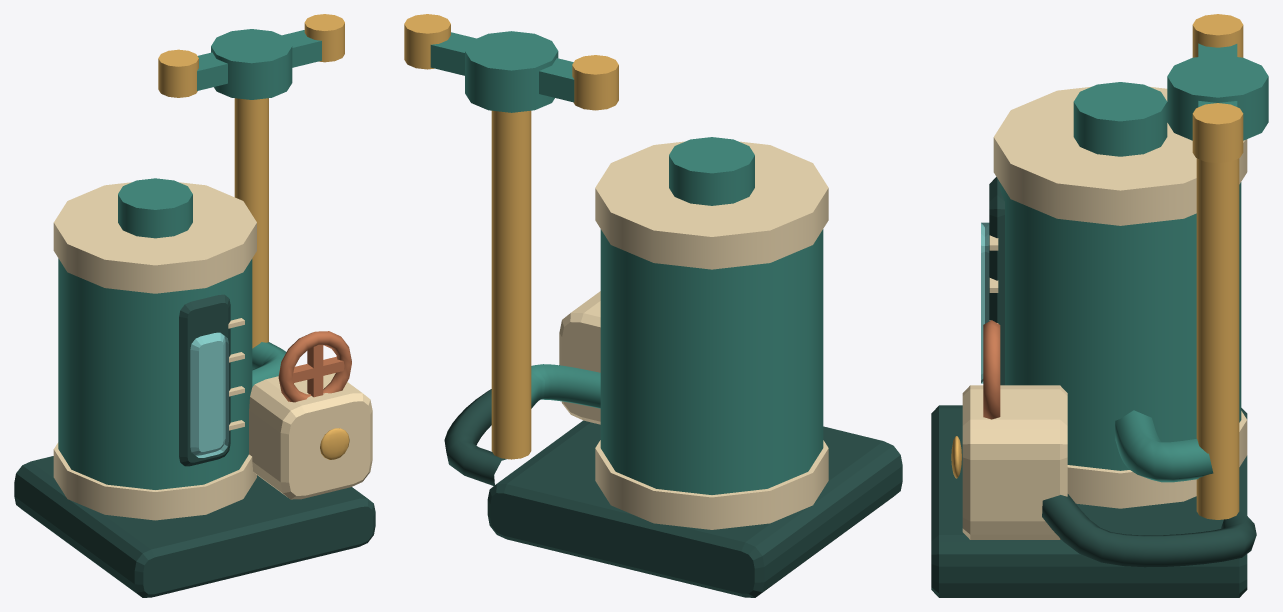
Rendered from irrigation-station.glb.
3 views of the same model, side by side, from view 1: azimuth 30°, elevation 25°; view 2: azimuth 150°, elevation 25°; view 3: azimuth 270°, elevation 25° (orthographic). The views are drawn at different scales.
Visible parts, largest first — view 1: irrigation_station_teal, irrigation_station_cream, irrigation_station_dark, irrigation_station_gold, sprinkler_head_teal, irrigation_station_water, valve_clay, sprinkler_head_gold; view 2: irrigation_station_teal, irrigation_station_dark, irrigation_station_cream, irrigation_station_gold, sprinkler_head_teal, sprinkler_head_gold; view 3: irrigation_station_teal, irrigation_station_cream, irrigation_station_dark, irrigation_station_gold, sprinkler_head_teal, sprinkler_head_gold, valve_clay, irrigation_station_water.
Boxes of the visible parts, <box> form: irrigation_station_teal: <box>58,178,286,489</box>; irrigation_station_cream: <box>53,182,372,520</box>; irrigation_station_dark: <box>14,294,375,597</box>; irrigation_station_gold: <box>234,98,349,459</box>; sprinkler_head_teal: <box>197,29,321,99</box>; irrigation_station_water: <box>190,332,228,457</box>; valve_clay: <box>278,331,351,402</box>; sprinkler_head_gold: <box>158,14,344,97</box>; irrigation_station_teal: <box>531,137,823,494</box>; irrigation_station_dark: <box>444,365,902,597</box>; irrigation_station_cream: <box>559,141,828,529</box>; irrigation_station_gold: <box>491,110,531,459</box>; sprinkler_head_teal: <box>430,31,574,112</box>; sprinkler_head_gold: <box>404,14,618,110</box>; irrigation_station_teal: <box>999,82,1241,482</box>; irrigation_station_cream: <box>962,86,1247,539</box>; irrigation_station_dark: <box>931,177,1256,597</box>; irrigation_station_gold: <box>951,158,1239,519</box>; sprinkler_head_teal: <box>1167,43,1268,140</box>; sprinkler_head_gold: <box>1192,14,1243,163</box>; valve_clay: <box>983,320,1000,419</box>; irrigation_station_water: <box>981,222,989,383</box>.
Bounding box in the file's own units: 1.18 × 1.5 × 0.865.
